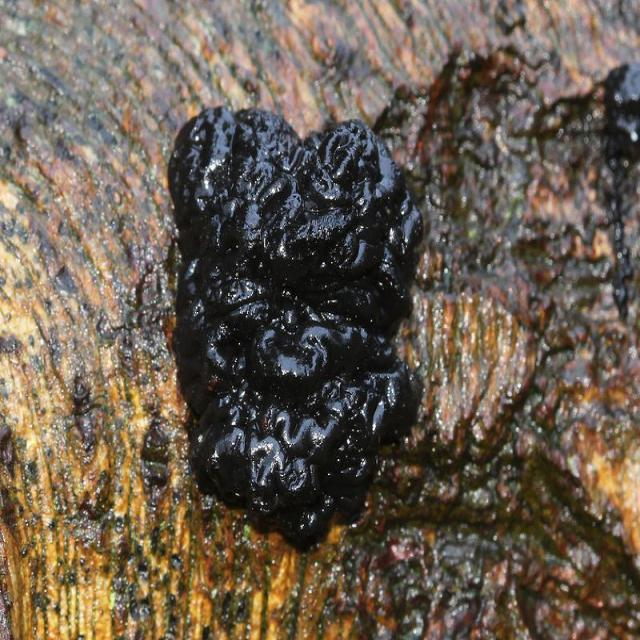Auricularia auricula: (171, 103, 421, 542)
